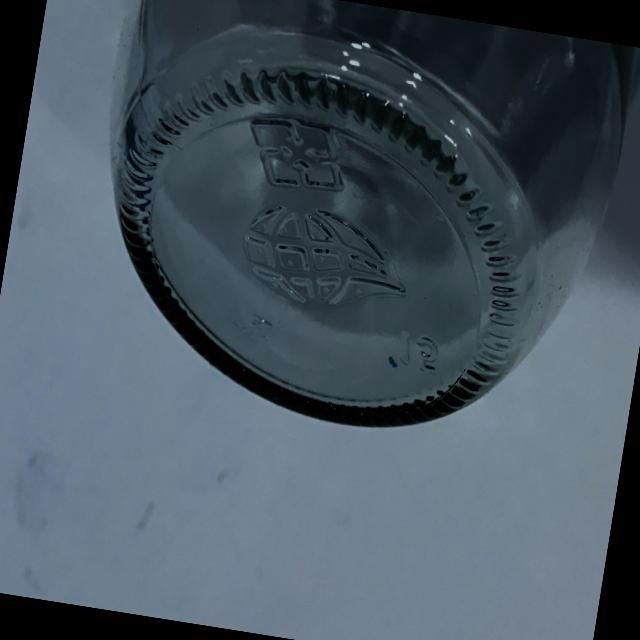glass: (37, 0, 640, 476)
